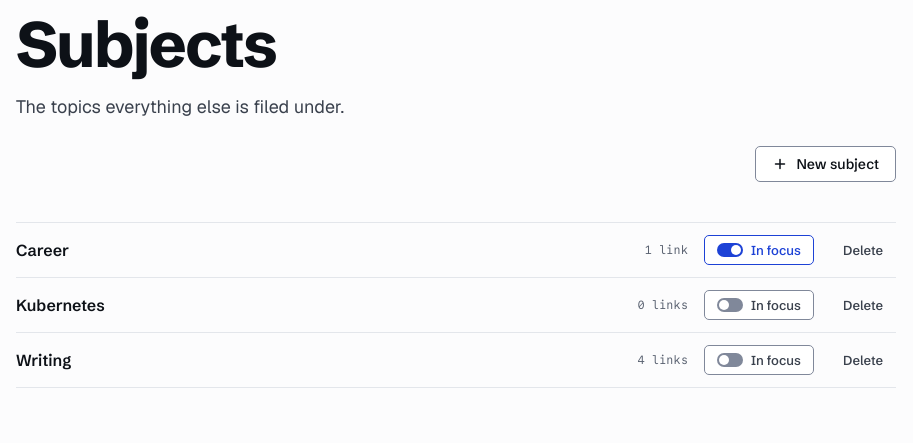
Test: the subjects screen › leaves the toggle where it was when the write failed, and says why
The width and height of the screenshot is (913, 443).
Click the switch named "Career in focus" at (759, 250), box [704,235,814,265]
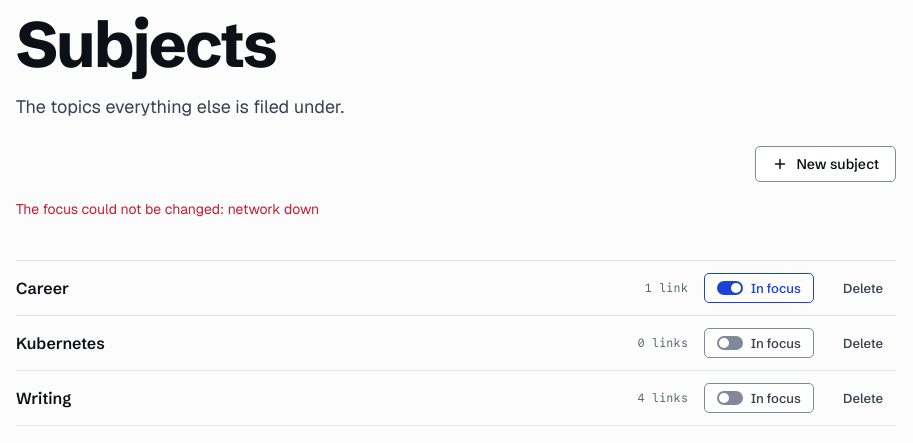
Result: the message "The focus could not be changed: network down" is shown at [16,200,319,218]
